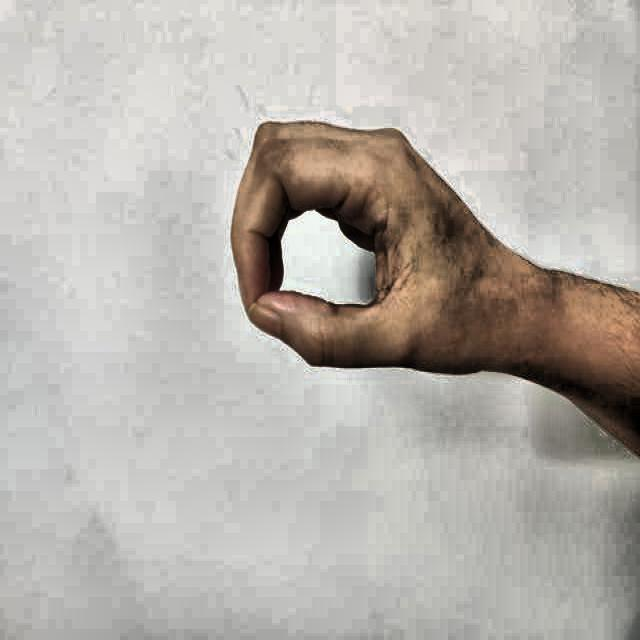O: (209, 90, 505, 420)
